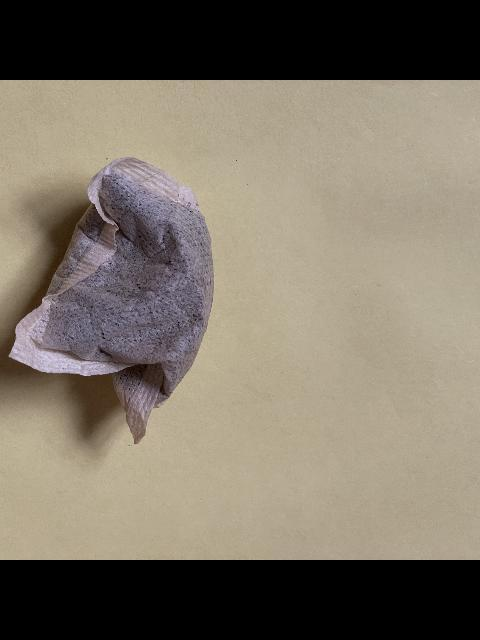teabag: (4, 154, 216, 446)
